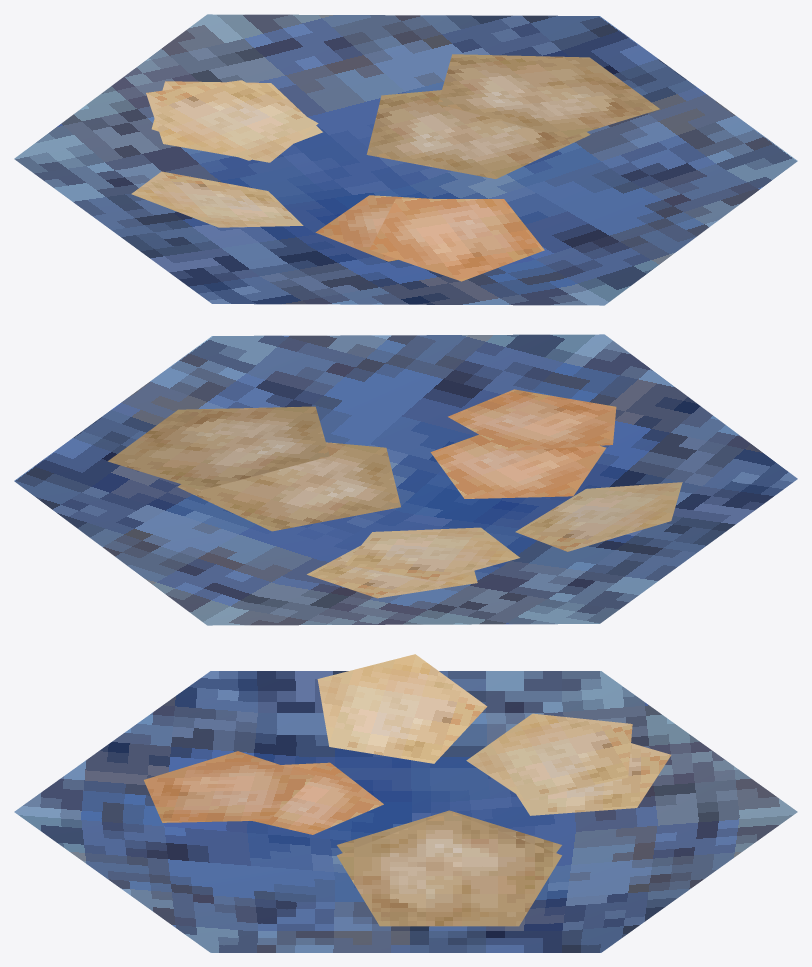
The model's file is edb_dish_kanali_wafers_l2.fbx.
3 views of the same model, one above another, from view 1: azimuth 30°, elevation 25°; view 2: azimuth 150°, elevation 25°; view 3: azimuth 270°, elevation 25° (orthographic).
Parts seen in each view (by area): view 1: mesh_node; view 2: mesh_node; view 3: mesh_node.
Part boxes in pixels (x1,y1,x2,y2): mesh_node: (14, 14, 797, 305); mesh_node: (14, 334, 797, 625); mesh_node: (14, 654, 797, 952).
Bounding box in the file's own units: 0.4681 × 0.0687 × 0.5503.
